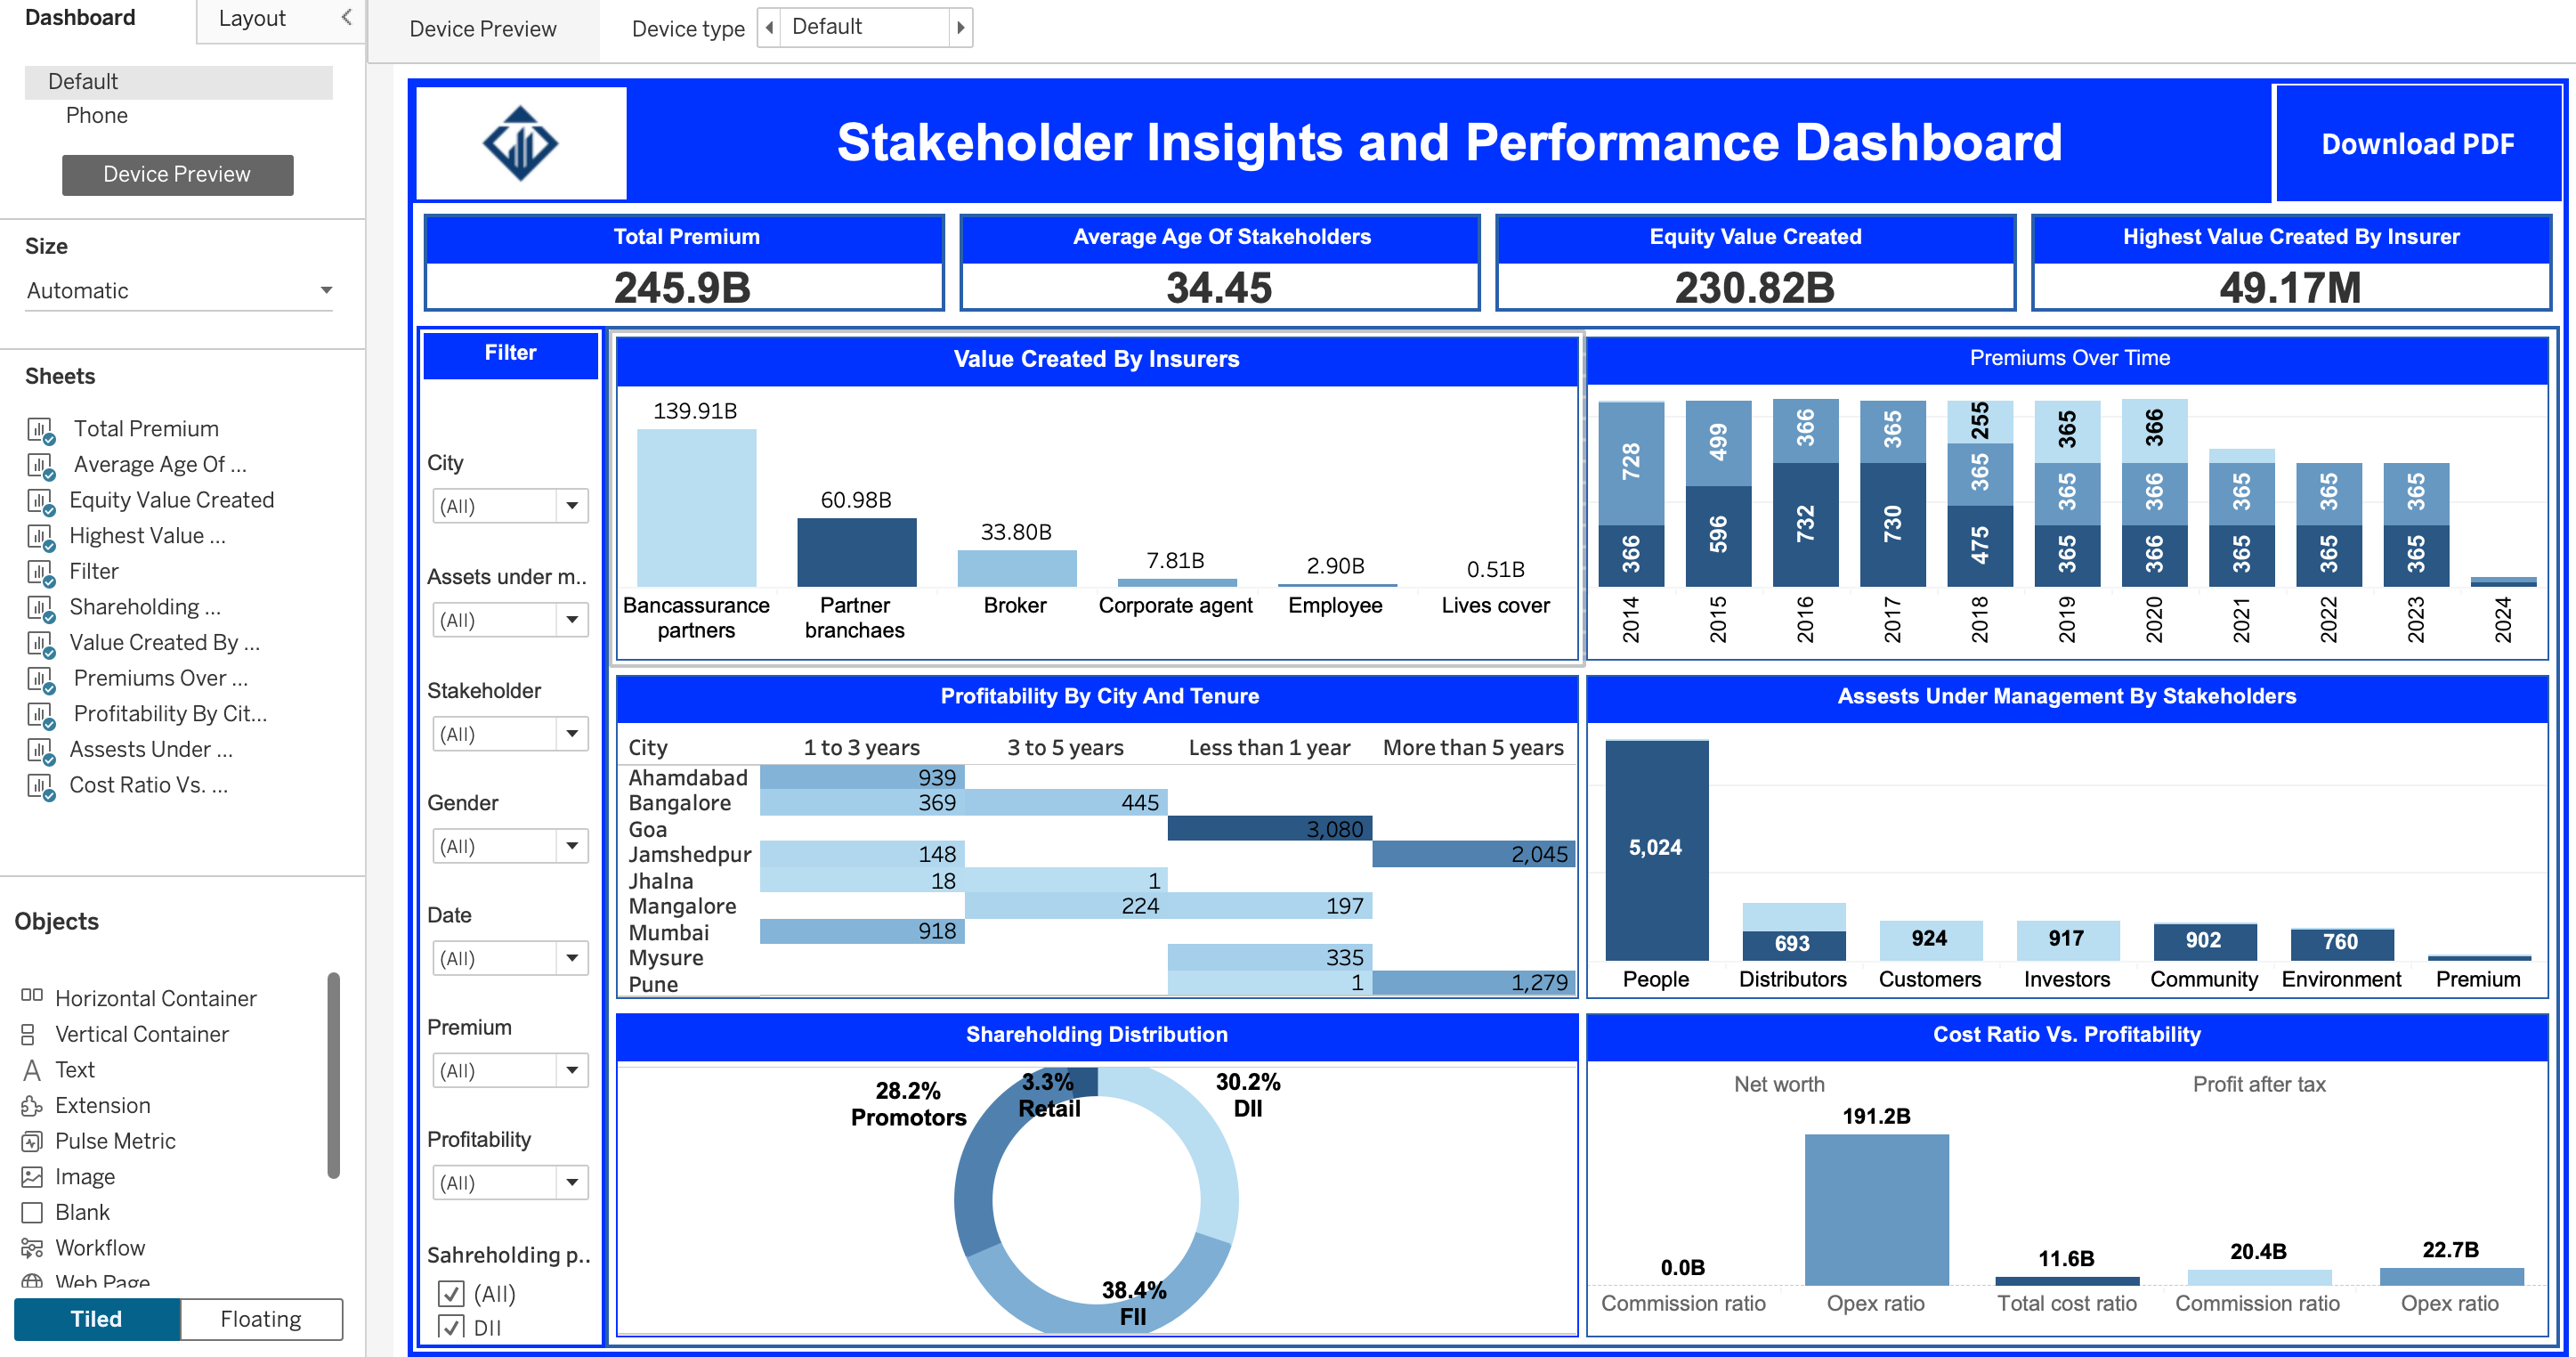

This screenshot's page, from the dashboard's own definition file:
{"tool":"tableau","page":{"name":"Stakeholder Insights and Performance Dashboard","canvas":[1000,1000],"units":"permille","ordinal":0},"visuals":[{"type":"image","param":"Image/WhatsApp Image 2026-03-17 at 4.24.09 PM.jpeg","box":[9.2,16.3,101.5,99.3]},{"type":"text","box":[110.7,16.3,743.7,99.3]},{"type":"dashboard-object","box":[854.4,16.3,136.4,99.3]},{"type":"worksheet","title":" Total Premium","mark":"Automatic","box":[10.8,118.5,244.6,93.3]},{"type":"worksheet","title":" Average Age Of Stakeholders","mark":"Automatic","box":[255.4,118.5,244.6,93.3]},{"type":"worksheet","title":"Equity Value Created","mark":"Automatic","box":[500,118.5,244.6,93.3]},{"type":"worksheet","title":"Highest Value Created By Insurer","mark":"Automatic","box":[744.6,118.5,244.6,93.3]},{"type":"worksheet","title":"Filter","mark":"Automatic","box":[12.5,220.7,84.9,84.5]},{"type":"worksheet","title":"Value Created By Insurers","mark":"Automatic","rows":["Value Created"],"cols":["Insurer"],"box":[102.3,223.7,441.8,247.4]},{"type":"worksheet","title":" Premiums Over Time","mark":"Bar","rows":["Premium 1"],"cols":["Date"],"box":[544.1,223.7,441.8,247.4]},{"type":"filter","title":"Filter","param":"[federated.0l9z23j1ip9tj61g5o3f81pgysj5].[none:City:nk]","box":[12.5,305.2,84.9,84.4]},{"type":"filter","title":"Filter","param":"[federated.0l9z23j1ip9tj61g5o3f81pgysj5].[none:Assets under management:nk]","box":[12.5,389.6,84.9,84.4]},{"type":"filter","title":"Filter","param":"[federated.0l9z23j1ip9tj61g5o3f81pgysj5].[none:Stakeholder:nk]","box":[12.5,474.1,84.9,84.5]},{"type":"worksheet","title":" Profitability By City And Tenure","mark":"Square","rows":["City"],"cols":["Policy tenuer"],"box":[102.3,477,441.8,245.9]},{"type":"worksheet","title":"Assests Under Management By Stakeholders","mark":"Automatic","rows":["Assets under management"],"cols":["Stakeholder"],"box":[544.1,477,441.8,245.9]},{"type":"filter","title":"Filter","param":"[federated.0l9z23j1ip9tj61g5o3f81pgysj5].[none:Gender:nk]","box":[12.5,558.5,84.9,84.4]},{"type":"filter","title":"Filter","param":"[federated.0l9z23j1ip9tj61g5o3f81pgysj5].[my:Date:ok]","box":[12.5,643,84.9,84.5]},{"type":"filter","title":"Filter","param":"[federated.0l9z23j1ip9tj61g5o3f81pgysj5].[none:Premium 1:nk]","box":[12.5,727.4,84.9,84.4]},{"type":"worksheet","title":"Shareholding Distribution","mark":"Pie","rows":["Calculation_1842605615993589766","Calculation_1842605615993589766"],"box":[102.3,728.9,441.8,245.9]},{"type":"worksheet","title":"Cost Ratio Vs. Profitability","mark":"Automatic","rows":["Value Created"],"cols":["Profitability","Cost ratio"],"box":[544.1,728.9,441.8,245.9]},{"type":"filter","title":"Filter","param":"[federated.0l9z23j1ip9tj61g5o3f81pgysj5].[none:Profitability:nk]","box":[12.5,811.9,84.9,83]},{"type":"filter","title":"Shareholding Distribution","param":"[federated.0l9z23j1ip9tj61g5o3f81pgysj5].[none:Sahreholding pattern:nk]","box":[12.5,894.8,84.9,83]}]}

Visuals, with their boxes on the dashboard's canvas, which has no fixed pixel size, in thousandths of its width and height (x1, y1, x2, y2). These are canvas units, not pixel positions in the 2576x1357 screenshot, which may show the page scaled, cropped or inside an application window:
image: [9,16,111,116]
text: [111,16,854,116]
dashboard-object: [854,16,991,116]
" Total Premium" worksheet: [11,118,255,212]
" Average Age Of Stakeholders" worksheet: [255,118,500,212]
"Equity Value Created" worksheet: [500,118,745,212]
"Highest Value Created By Insurer" worksheet: [745,118,989,212]
"Filter" worksheet: [12,221,97,305]
"Value Created By Insurers" worksheet: [102,224,544,471]
" Premiums Over Time" worksheet (Bar marks): [544,224,986,471]
"Filter" filter: [12,305,97,390]
"Filter" filter: [12,390,97,474]
"Filter" filter: [12,474,97,559]
" Profitability By City And Tenure" worksheet (Square marks): [102,477,544,723]
"Assests Under Management By Stakeholders" worksheet: [544,477,986,723]
"Filter" filter: [12,558,97,643]
"Filter" filter: [12,643,97,728]
"Filter" filter: [12,727,97,812]
"Shareholding Distribution" worksheet (Pie marks): [102,729,544,975]
"Cost Ratio Vs. Profitability" worksheet: [544,729,986,975]
"Filter" filter: [12,812,97,895]
"Shareholding Distribution" filter: [12,895,97,978]
